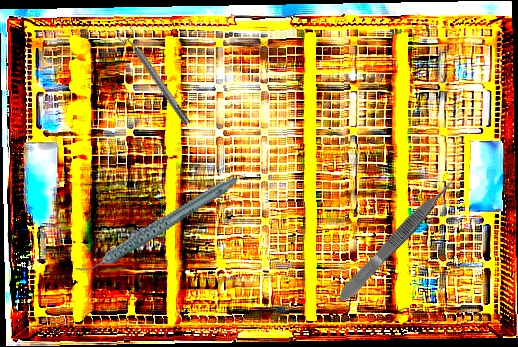Fixation Ring: (116, 25, 195, 130)
Handpiece: (63, 174, 251, 276)
Tissue Forceps: (333, 175, 461, 306)
